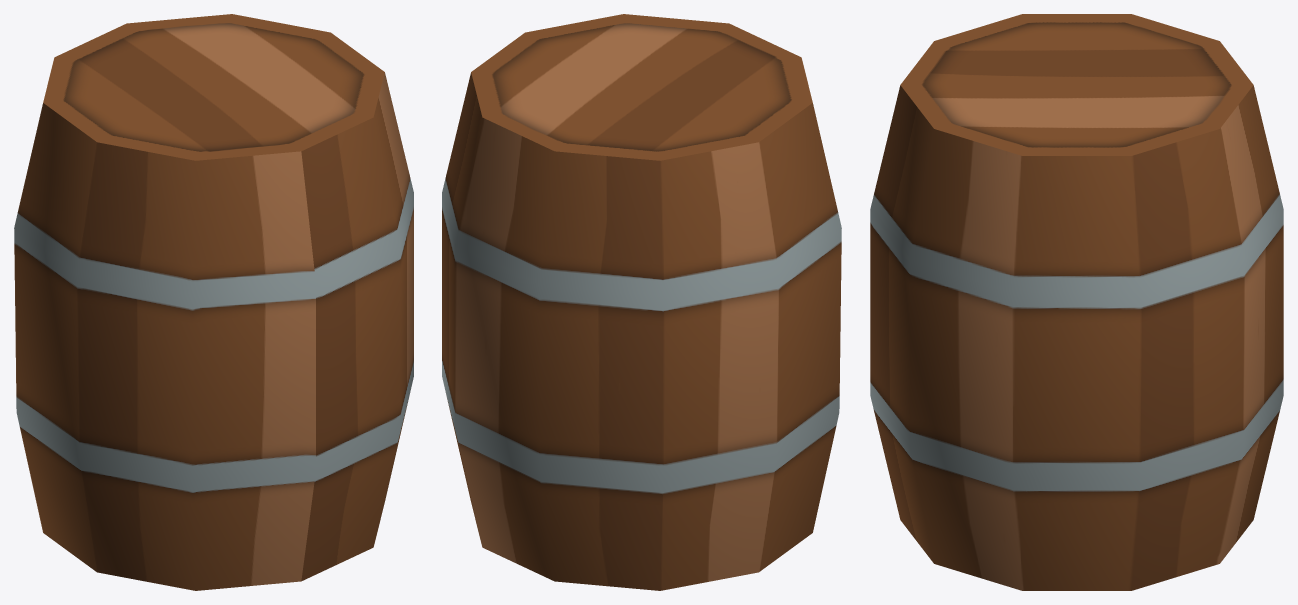
Rendered from Barril.fbx.
The picture shows the model from 3 angles, left to right: view 1: azimuth 30°, elevation 25°; view 2: azimuth 150°, elevation 25°; view 3: azimuth 270°, elevation 25°; orthographic projection.
Visible parts, largest first — view 1: Barril; view 2: Barril; view 3: Barril.
Part boxes in pixels (<box>): Barril: <box>14,14,413,590</box>; Barril: <box>442,14,841,590</box>; Barril: <box>870,14,1283,590</box>.
Size of the model in its own units: 63.37 by 77.39 by 66.63.
